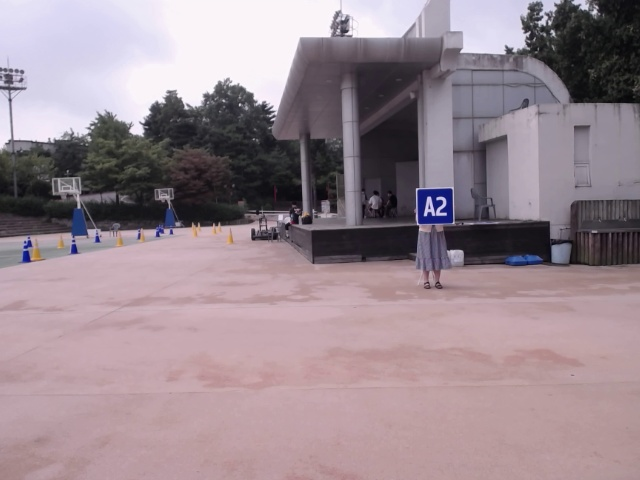delivery_a2: (416, 188, 454, 225)
